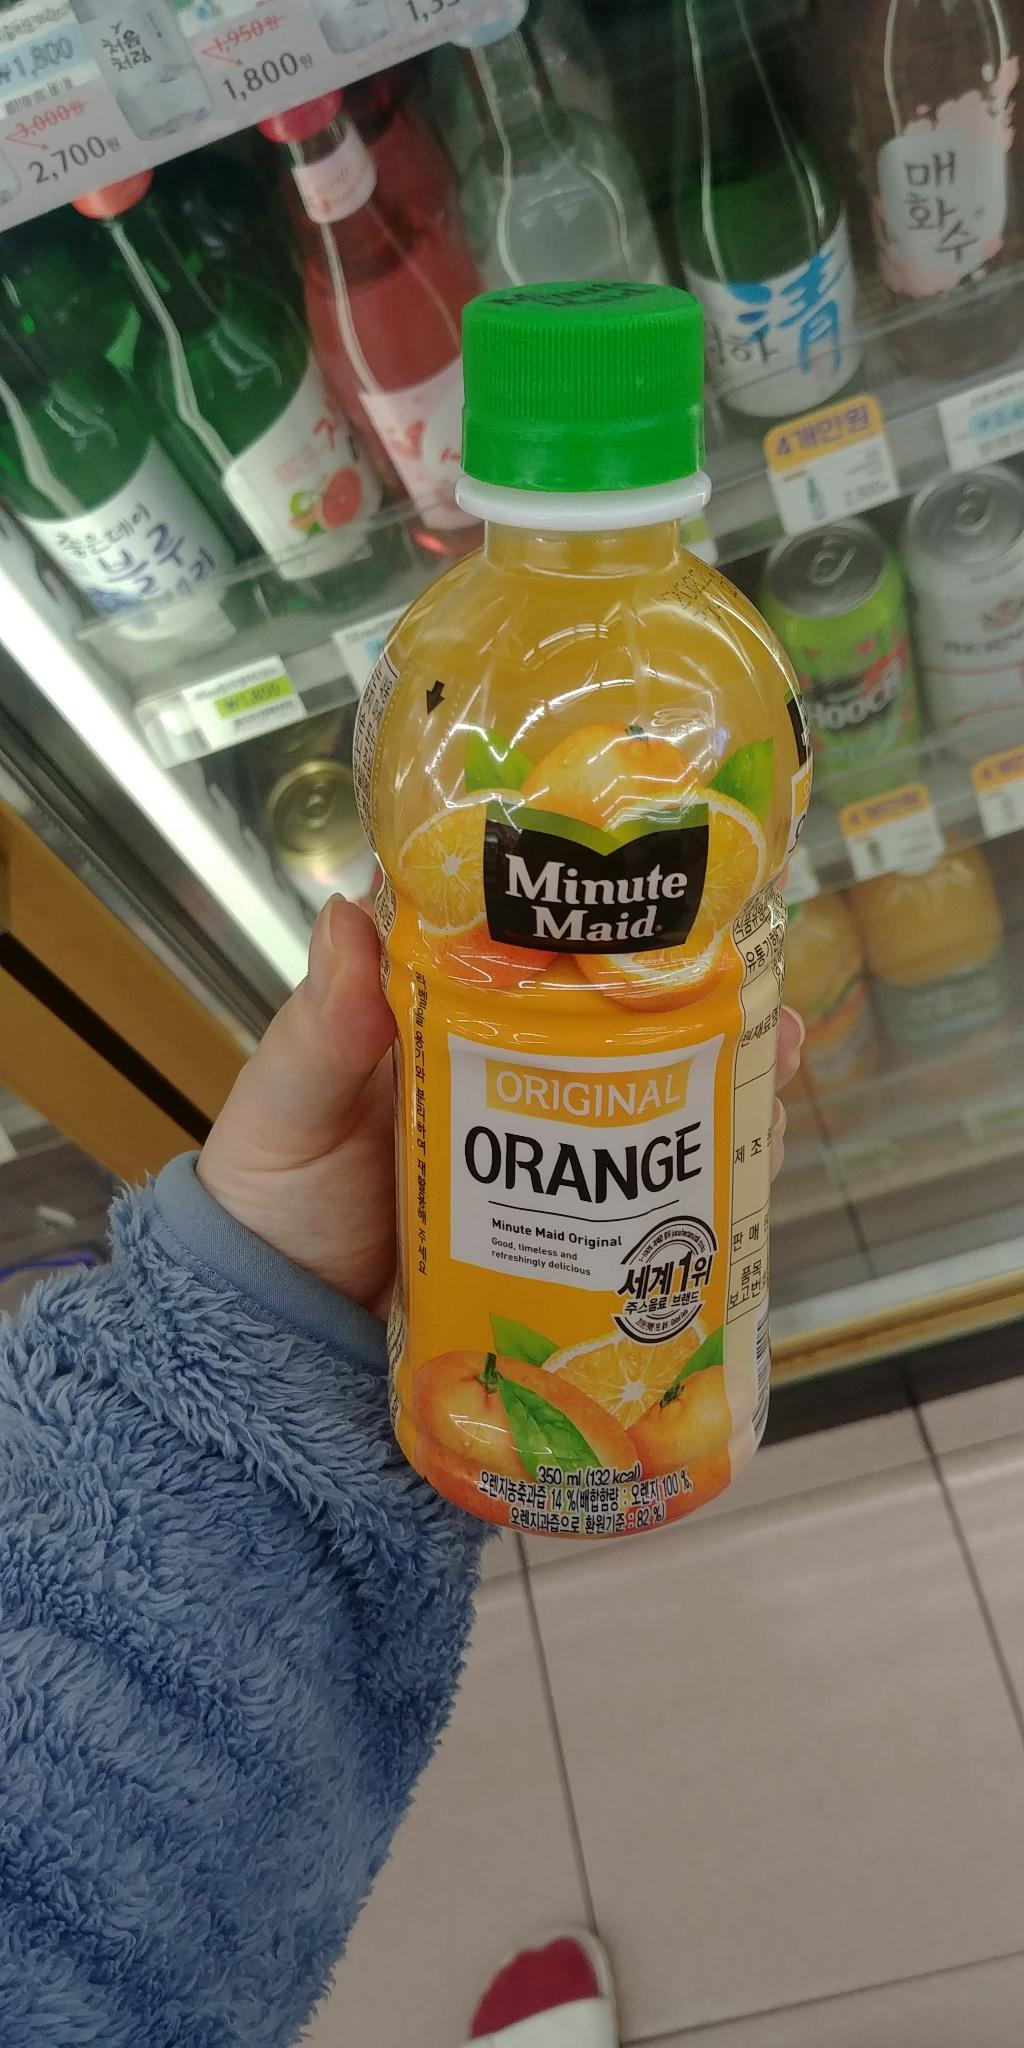minutemaid_org_orange: (350, 259, 806, 1539)
